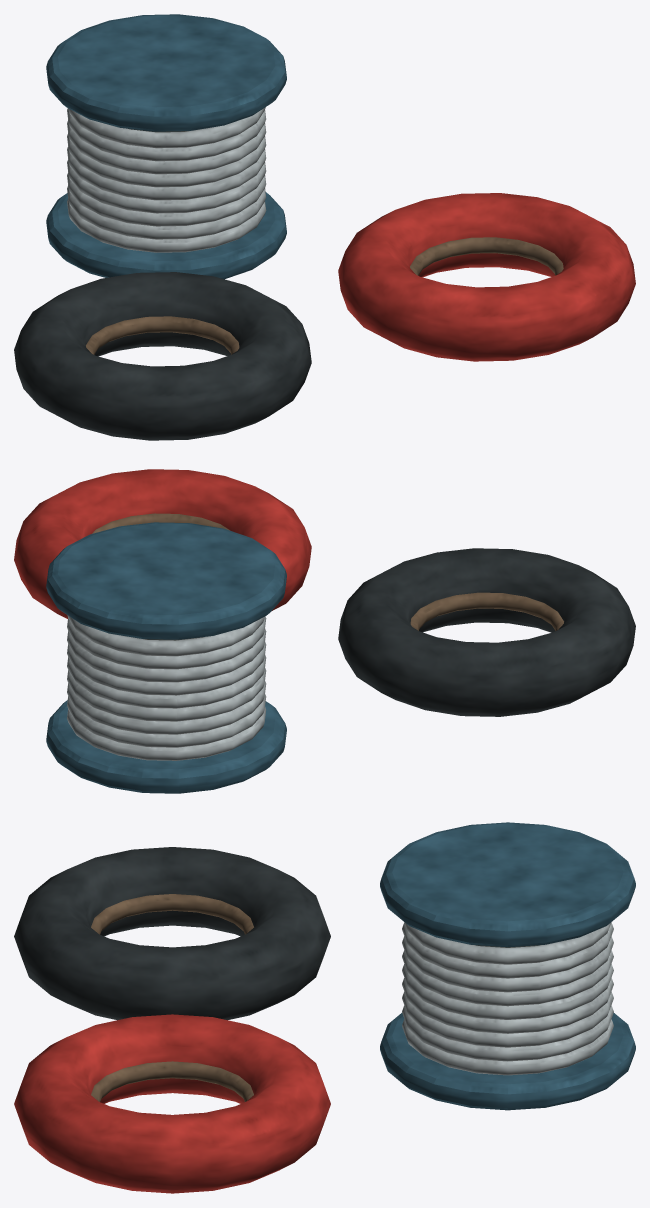
File: GR_TapeSolder_04.glb
3 views of the same model, one above another, from view 1: azimuth 30°, elevation 25°; view 2: azimuth 150°, elevation 25°; view 3: azimuth 270°, elevation 25° (orthographic). The views are drawn at different scales.
Parts seen in each view (by area): view 1: Static; view 2: Static; view 3: Static.
Boxes of the visible parts, box(x1,y1,x2,y2) form: Static: box(14, 14, 635, 440); Static: box(14, 469, 635, 793); Static: box(14, 822, 635, 1193).
Size of the model in its own units: 0.234 by 0.068 by 0.204.
1 material, 1 textured.
